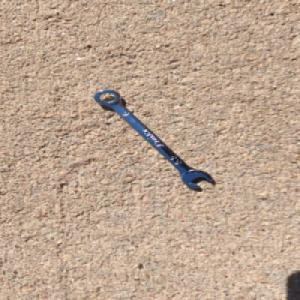Wrench: (92, 88, 214, 189)
